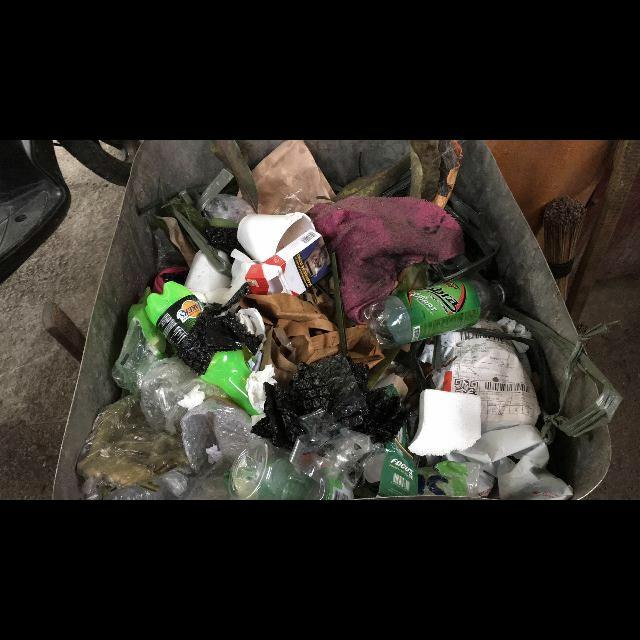cardboard: (245, 229, 330, 297)
paper: (251, 140, 336, 215)
plastic_bag: (416, 329, 572, 500), (251, 353, 411, 453), (111, 318, 236, 435), (76, 396, 190, 500)
plastic_bottle: (363, 278, 514, 350), (227, 440, 354, 500), (145, 281, 203, 350), (200, 350, 259, 416)
